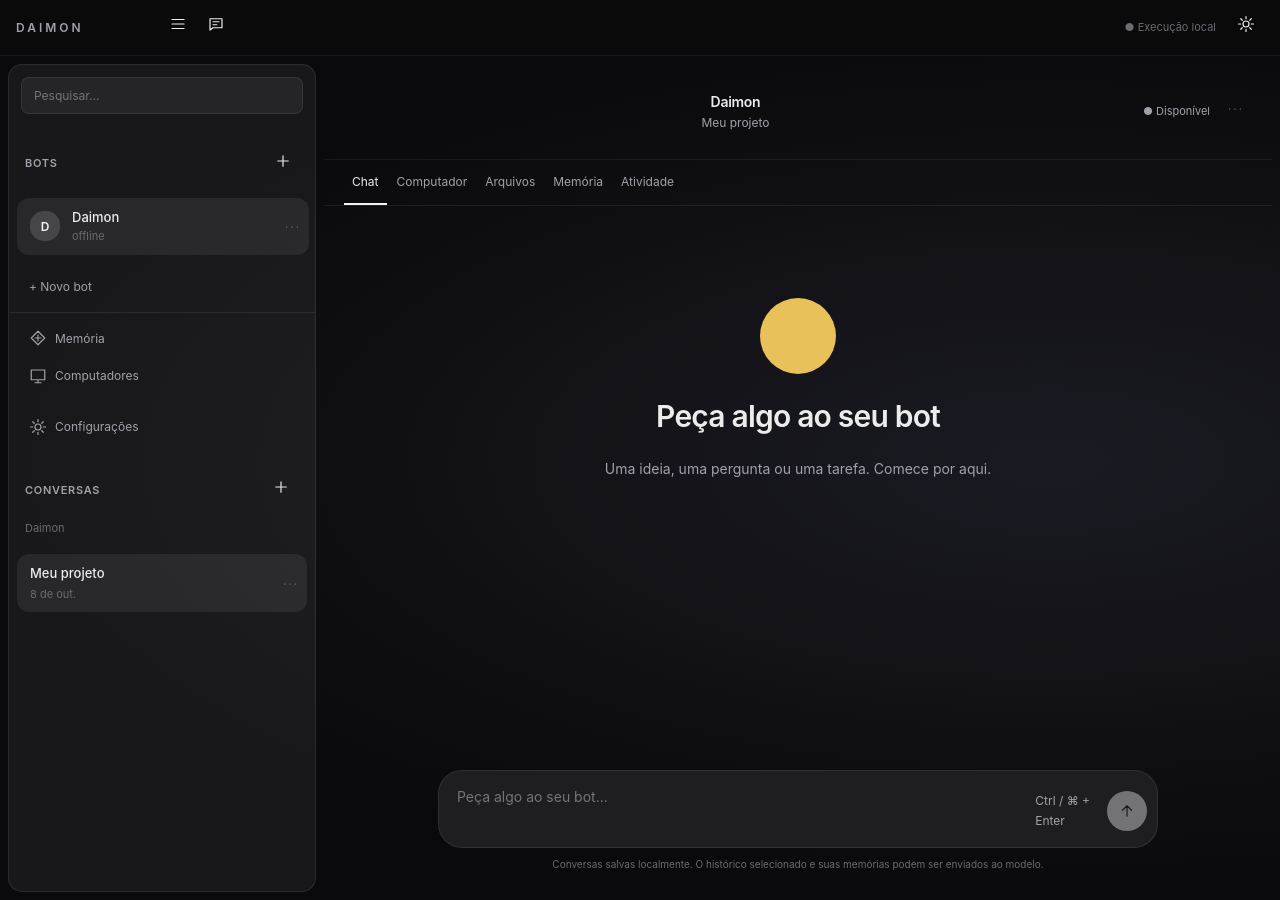
Test: reveals advanced bot sections without submitting the form
This screenshot has width=1280, height=900.
Expected: the button "Meu projeto 8 de out." is shown, 17,554 -> 307,612
Expected: the heading "Daimon" is shown, 711,93 -> 760,110
Click the button named "Novo bot" at (283, 164), box 265,146 -> 301,182
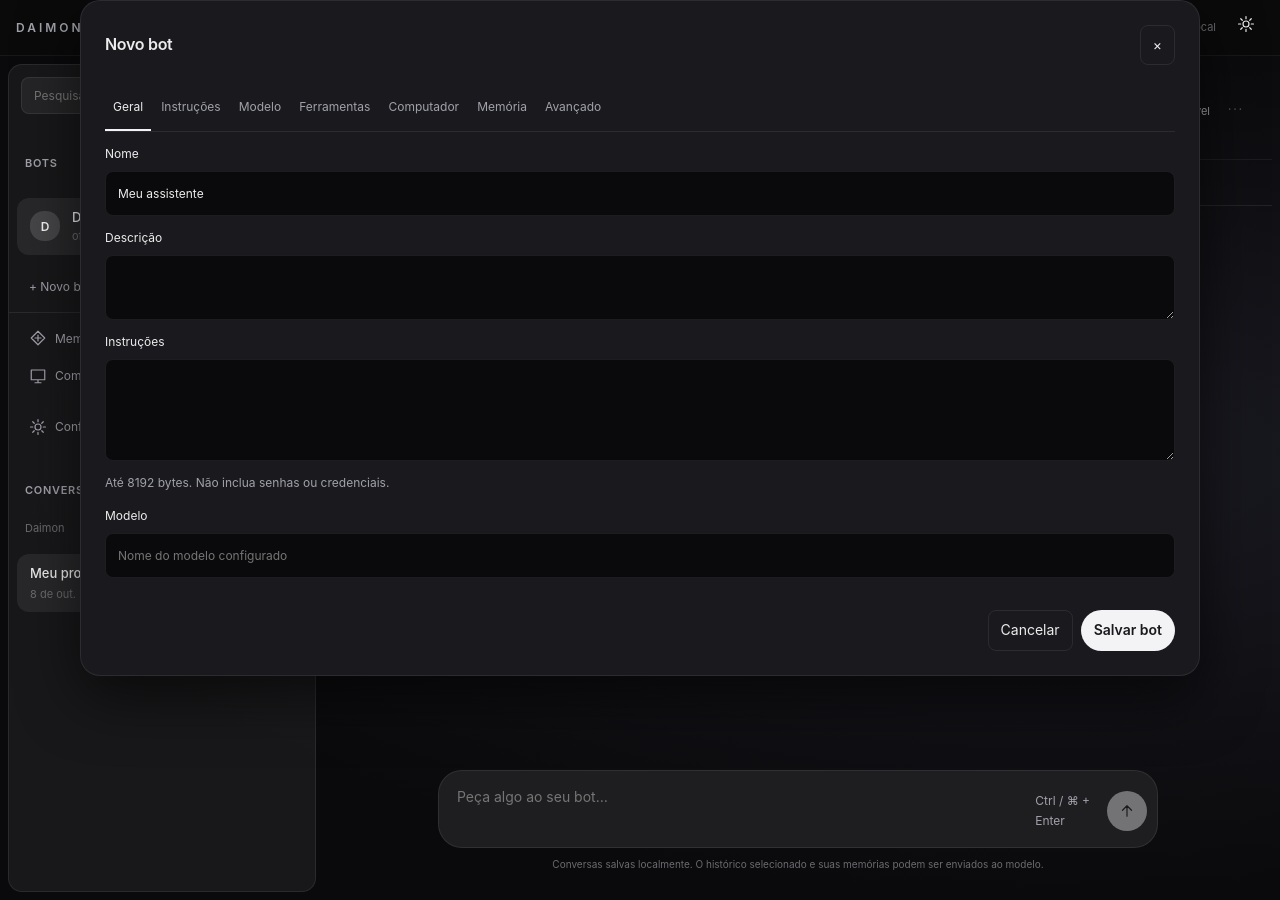
Type "offline" into the field labelled "Modelo" at (640, 556), box 105,533 -> 1175,578
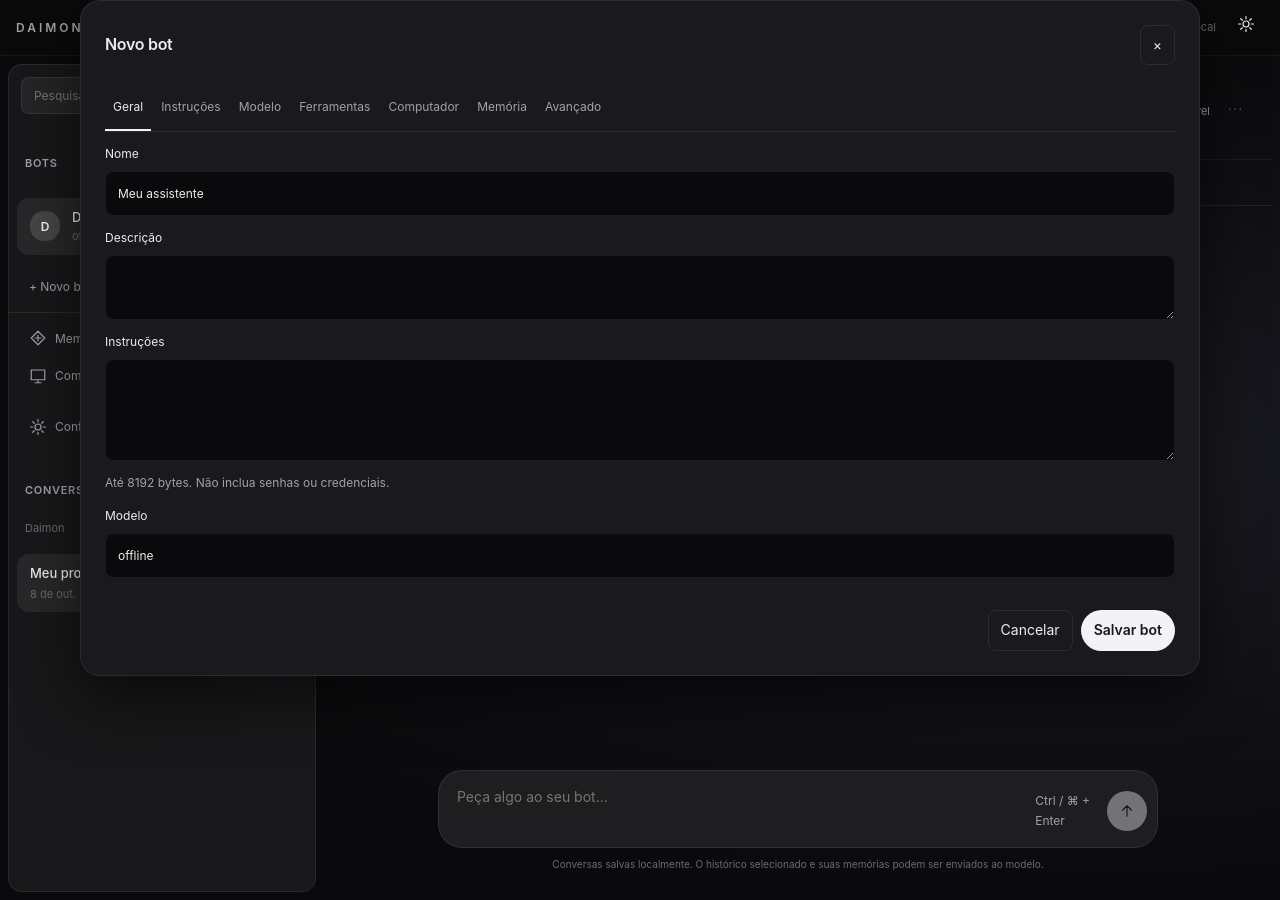
Click the tab "Computador" at (424, 108), box 380,85 -> 467,131
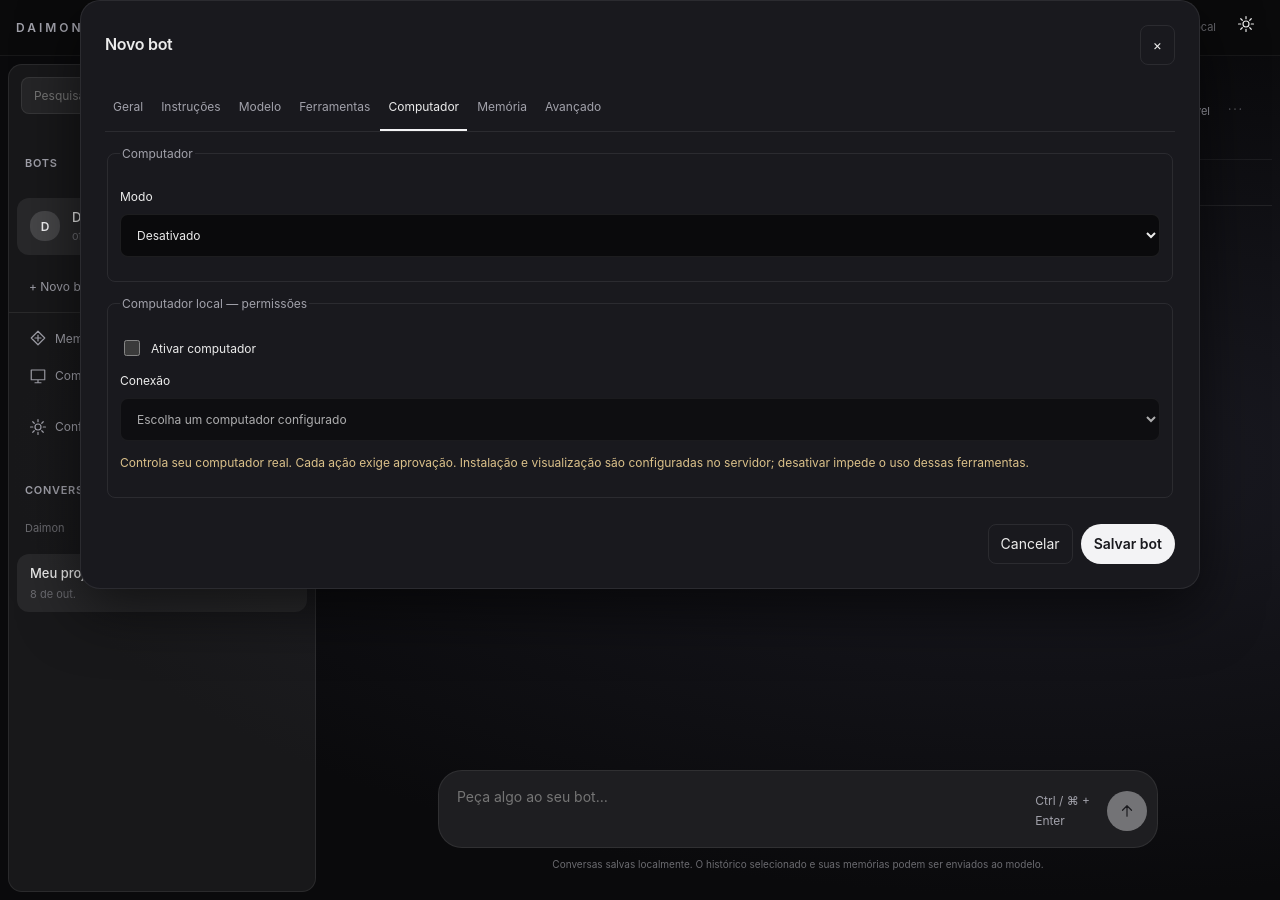
Result: the dropdown named "Modo do computador" is shown at 120,214 -> 1160,257
